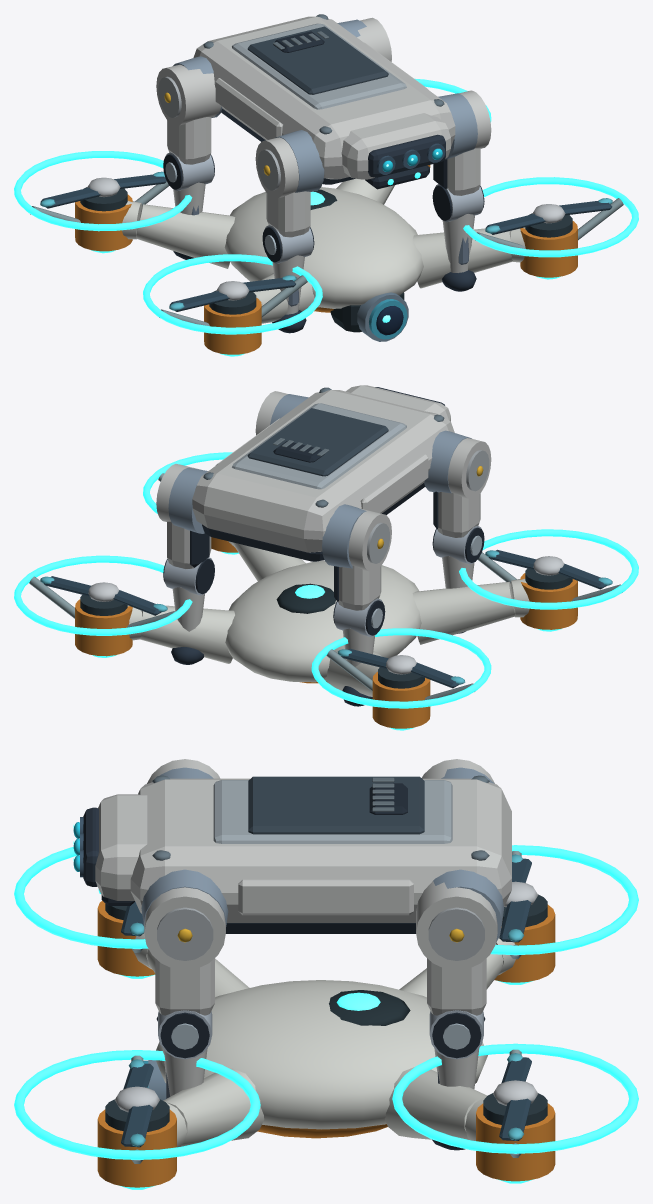
Rendered from festival-vehicles.glb.
3 views of the same model, one above another, from view 1: azimuth 30°, elevation 25°; view 2: azimuth 150°, elevation 25°; view 3: azimuth 270°, elevation 25° (orthographic). The views are drawn at different scales.
Parts seen in each view (by area): view 1: Quadcopter shell paint, Lite3 main shell paint, Quadcopter shell led, Lite3 main shell metal, Lite3 shoulder RL paint, Lite3 shoulder FL paint, Quadcopter shell metal, Lite3 shoulder FR paint, Lite3 main shell lens, Lite3 shin FR paint, Rotor blades 0 paint, Rotor blades 1 paint (+9 smaller); view 2: Quadcopter shell paint, Lite3 main shell paint, Quadcopter shell led, Lite3 main shell metal, Lite3 shoulder FL paint, Lite3 shoulder RL paint, Lite3 shoulder RR paint, Quadcopter shell metal, Rotor blades 0 paint, Rotor blades 2 paint, Rotor blades 3 paint, Lite3 shoulder FL metal (+7 smaller); view 3: Lite3 main shell paint, Quadcopter shell paint, Quadcopter shell led, Lite3 shoulder RR paint, Lite3 shoulder FR paint, Lite3 main shell metal, Quadcopter shell metal, Lite3 shoulder FR metal, Lite3 shoulder RR metal, Lite3 shin FR paint, Lite3 shin RR paint, Rotor blades 1 paint (+8 smaller).
Boxes of the visible parts, x1,y1,x2,y2 form: Quadcopter shell paint: (30, 165, 623, 354); Lite3 main shell paint: (193, 16, 455, 189); Quadcopter shell led: (14, 78, 638, 356); Lite3 main shell metal: (173, 14, 477, 192); Lite3 shoulder RL paint: (156, 64, 221, 164); Lite3 shoulder FL paint: (255, 137, 310, 237); Quadcopter shell metal: (80, 187, 572, 341); Lite3 shoulder FR paint: (433, 90, 491, 195); Lite3 main shell lens: (368, 134, 445, 177); Lite3 shin FR paint: (432, 185, 484, 272); Rotor blades 0 paint: (169, 275, 296, 311); Rotor blades 1 paint: (485, 198, 612, 234); Quadcopter shell paint: (29, 473, 622, 728); Lite3 main shell paint: (192, 385, 454, 552); Quadcopter shell led: (14, 452, 638, 730); Lite3 main shell metal: (168, 387, 471, 568); Lite3 shoulder FL paint: (433, 438, 491, 537); Lite3 shoulder RL paint: (334, 508, 391, 610); Lite3 shoulder RR paint: (156, 464, 211, 569); Quadcopter shell metal: (80, 568, 572, 688); Rotor blades 0 paint: (485, 549, 612, 589); Rotor blades 2 paint: (337, 648, 465, 688); Rotor blades 3 paint: (40, 576, 167, 615); Lite3 shoulder FL metal: (433, 450, 489, 564); Lite3 main shell paint: (95, 776, 511, 922); Quadcopter shell paint: (97, 851, 555, 1187); Quadcopter shell led: (14, 845, 638, 1189); Lite3 shoulder RR paint: (416, 881, 497, 1015); Lite3 shoulder FR paint: (144, 887, 225, 1015); Lite3 main shell metal: (80, 767, 504, 942); Quadcopter shell metal: (105, 894, 547, 1131); Lite3 shoulder FR metal: (157, 907, 213, 1059); Lite3 shoulder RR metal: (428, 907, 484, 1059); Lite3 shin FR paint: (160, 1012, 209, 1096); Lite3 shin RR paint: (432, 1012, 481, 1088); Rotor blades 1 paint: (115, 1059, 159, 1147).
Bounding box in the file's own units: 2.03 × 0.982 × 1.7.
